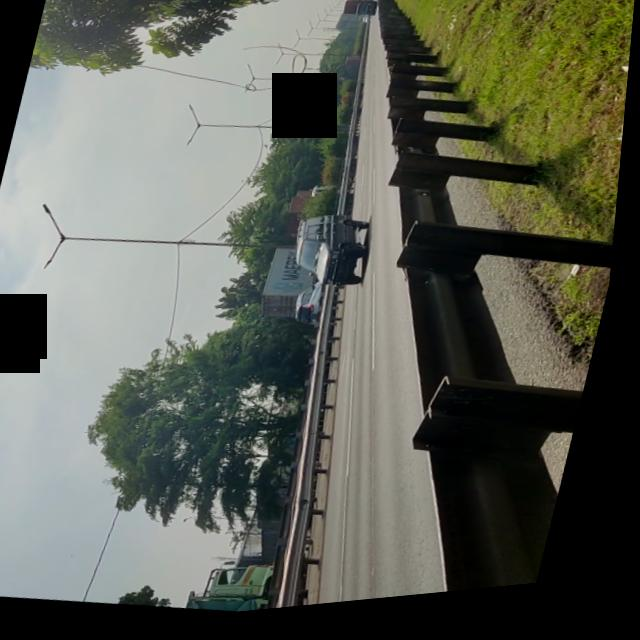Golongan I: (283, 208, 386, 304)
